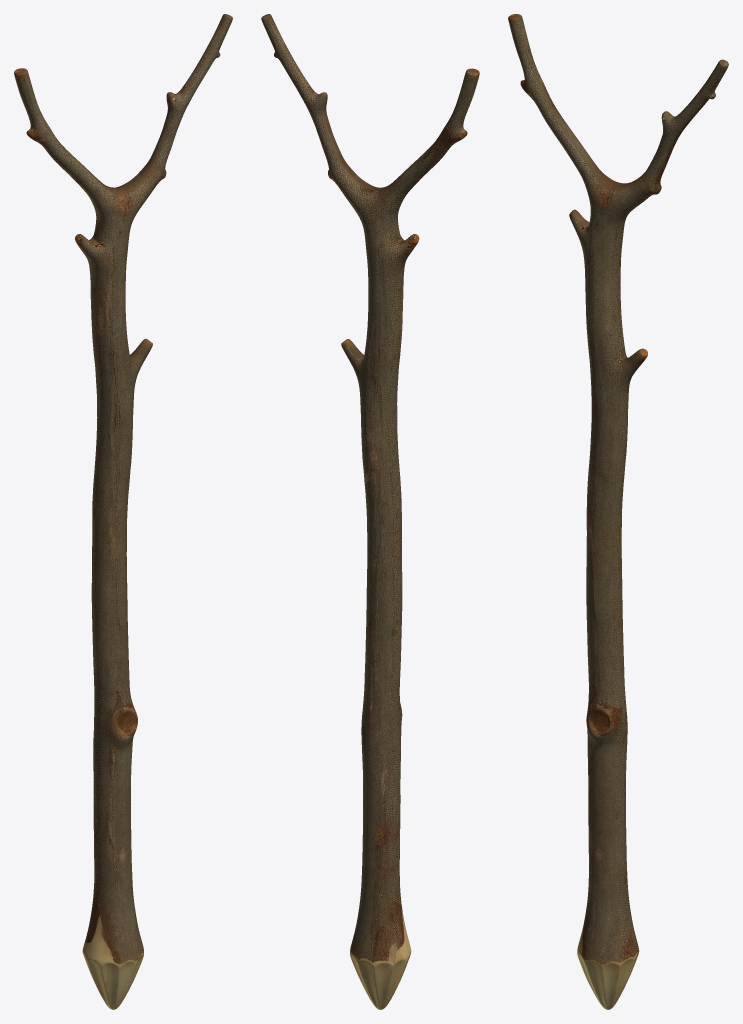
File: rodrest_fork.glb
3 renders of one model, left to right at view 1: azimuth 30°, elevation 25°; view 2: azimuth 150°, elevation 25°; view 3: azimuth 330°, elevation 25°, orthographic.
Parts seen in each view (by area): view 1: Mesh_0; view 2: Mesh_0; view 3: Mesh_0.
Part boxes in pixels (<box>): Mesh_0: <box>14,14,232,1009</box>; Mesh_0: <box>261,14,479,1009</box>; Mesh_0: <box>508,14,728,1009</box>.
Bounding box in the file's own units: 0.4461 × 1.9 × 0.1082.
Materials: 1 (1 with a texture image).
